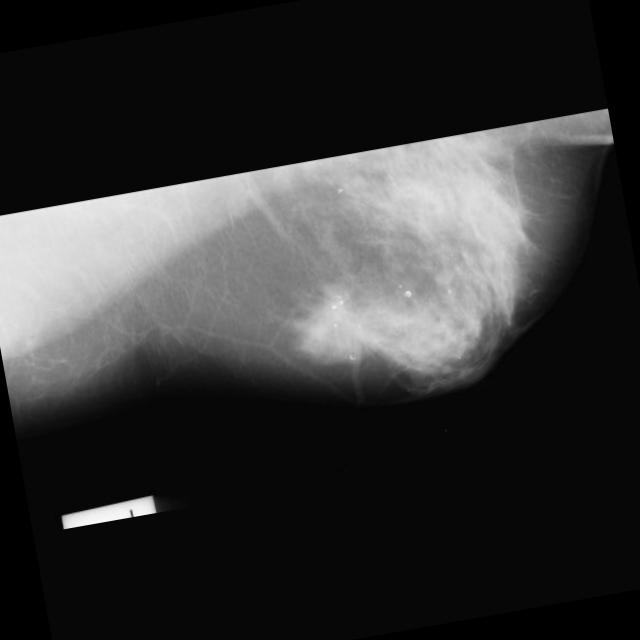ARCH: (278, 242, 396, 362)
